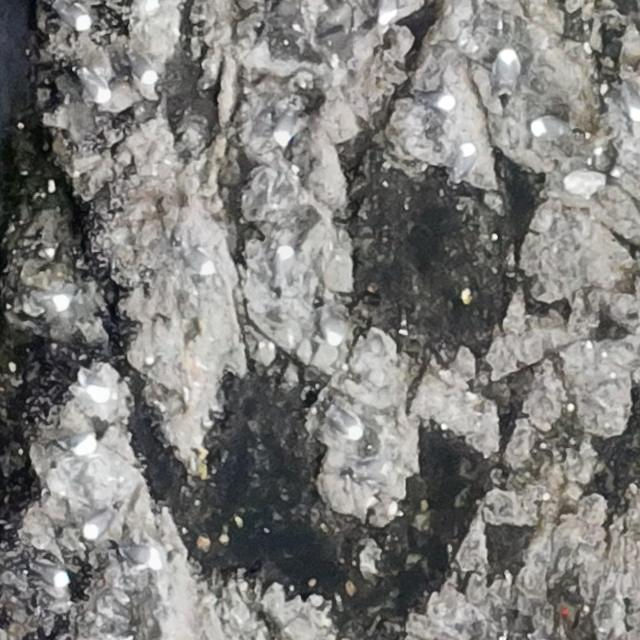umineko: (324, 306, 350, 345), (454, 142, 478, 184), (331, 410, 363, 441), (82, 69, 111, 103), (56, 2, 89, 31), (182, 247, 216, 274), (127, 544, 161, 570), (276, 107, 298, 144), (82, 372, 109, 402), (129, 56, 157, 84), (59, 435, 97, 455), (84, 510, 111, 536), (277, 228, 297, 260), (422, 91, 454, 111), (533, 119, 566, 138), (42, 294, 68, 316), (496, 50, 512, 85), (40, 568, 68, 588), (378, 1, 400, 26)
